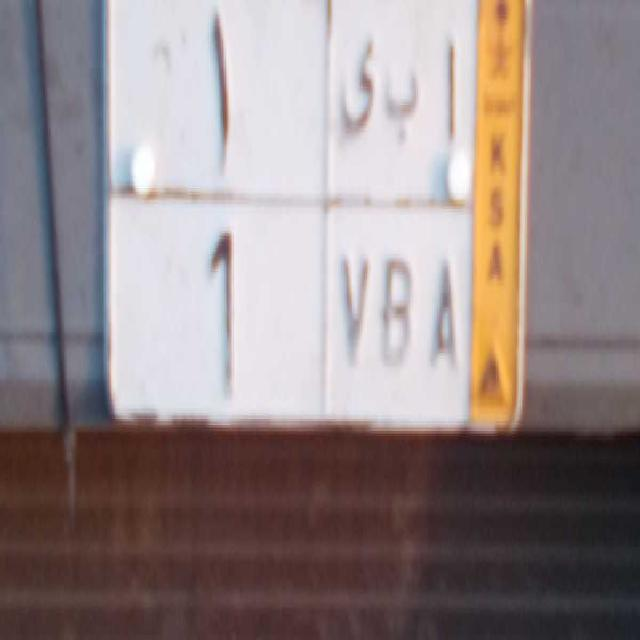license_plate: (108, 185, 470, 428)
